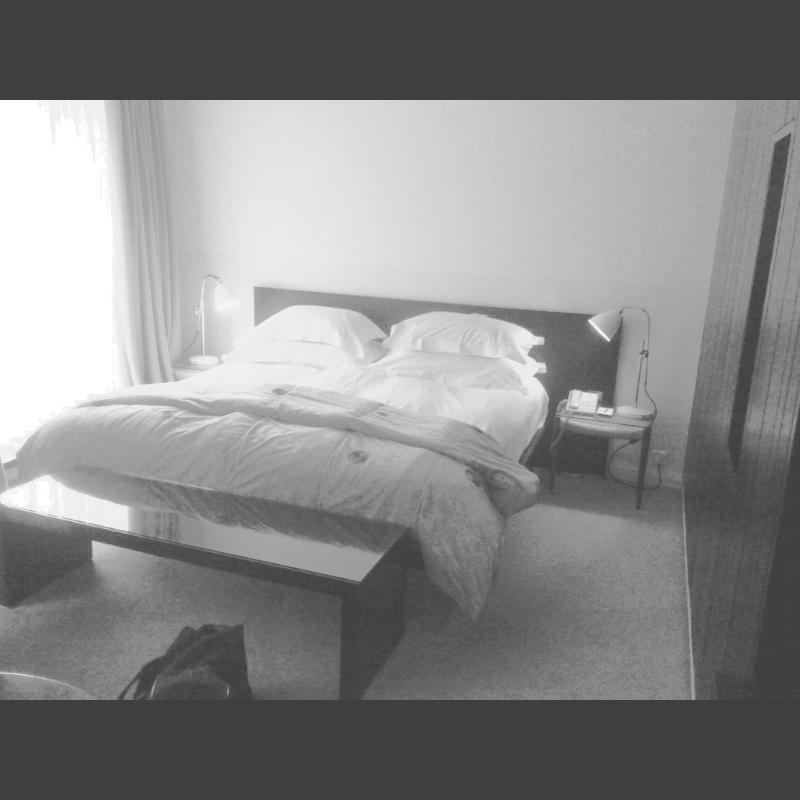pillow: (235, 301, 387, 359), (366, 348, 544, 394), (384, 316, 544, 366), (216, 342, 388, 372)
